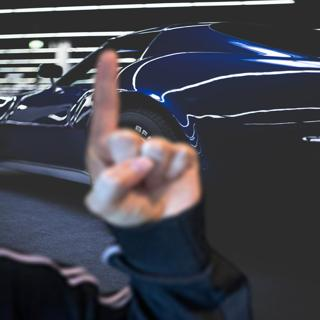IRRITATED: (74, 47, 205, 230)
